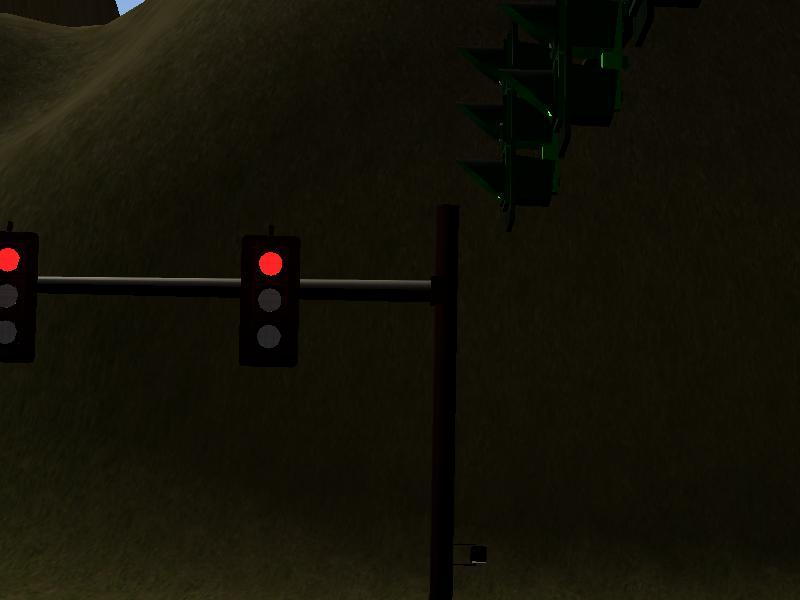Red: (243, 239, 296, 361), (1, 234, 34, 370)
